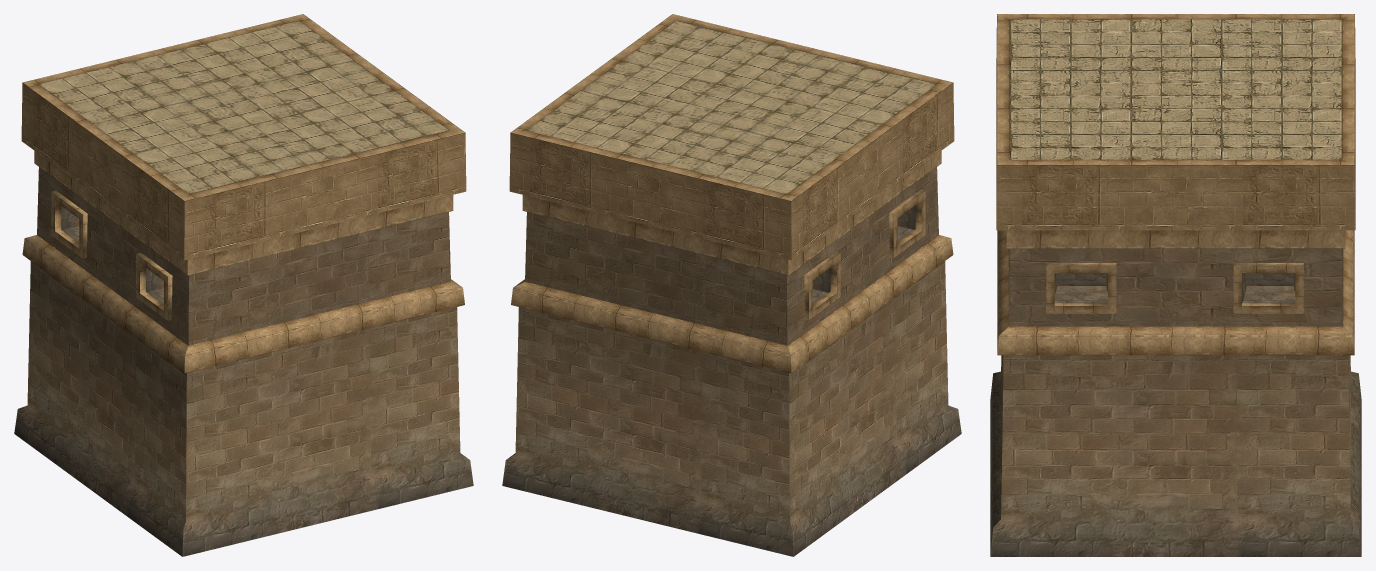
The model's file is environment_Building_fenghuotai_e.FBX.
3 renders of one model, left to right at view 1: azimuth 30°, elevation 25°; view 2: azimuth 150°, elevation 25°; view 3: azimuth 270°, elevation 25°, orthographic. The views are drawn at different scales.
Parts seen in each view (by area): view 1: environment_Building_fenghuotai_e03, environment_Building_fenghuotai_e02, environment_Building_fenghuotai_e01; view 2: environment_Building_fenghuotai_e03, environment_Building_fenghuotai_e02, environment_Building_fenghuotai_e01; view 3: environment_Building_fenghuotai_e03, environment_Building_fenghuotai_e02, environment_Building_fenghuotai_e01.
Part boxes in pixels (left/top/right/bottom): environment_Building_fenghuotai_e03: left=14, top=167, right=473, bottom=556; environment_Building_fenghuotai_e02: left=21, top=14, right=466, bottom=373; environment_Building_fenghuotai_e01: left=38, top=20, right=448, bottom=194; environment_Building_fenghuotai_e03: left=502, top=167, right=961, bottom=556; environment_Building_fenghuotai_e02: left=509, top=14, right=954, bottom=373; environment_Building_fenghuotai_e01: left=527, top=20, right=937, bottom=194; environment_Building_fenghuotai_e03: left=990, top=248, right=1361, bottom=556; environment_Building_fenghuotai_e02: left=996, top=14, right=1355, bottom=355; environment_Building_fenghuotai_e01: left=1010, top=19, right=1341, bottom=159.
Size of the model in its own units: 144 by 144 by 166.
